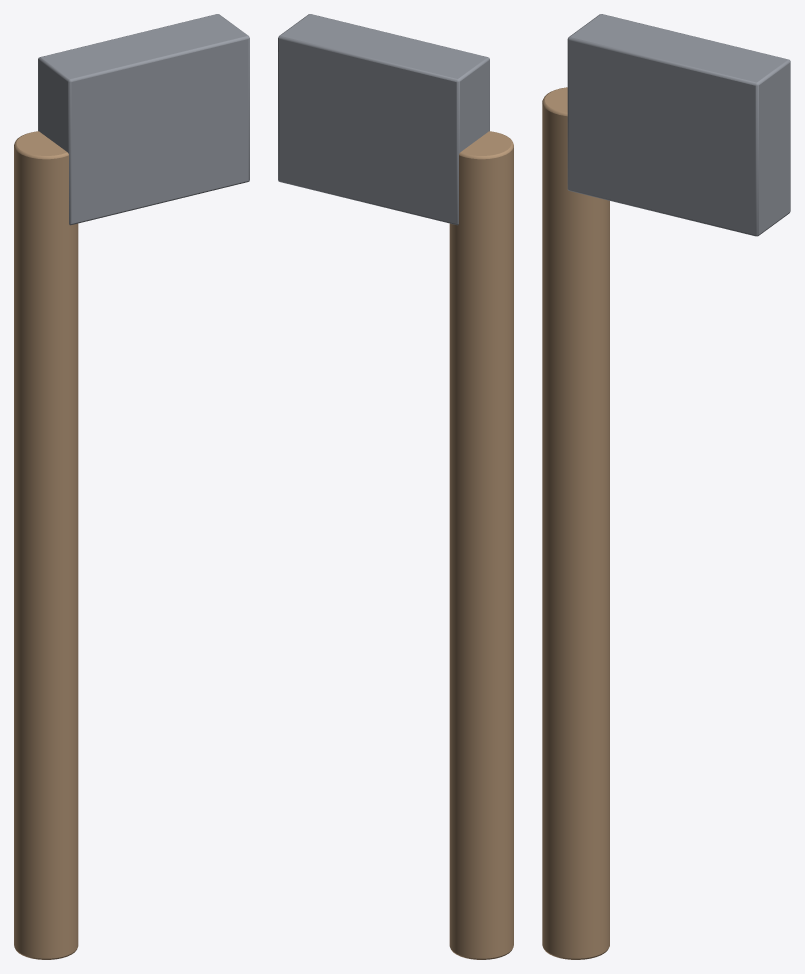
Rendered from SM_EQP_HATCHET_T2.fbx.
3 renders of one model, left to right at view 1: azimuth 30°, elevation 25°; view 2: azimuth 150°, elevation 25°; view 3: azimuth 330°, elevation 25°, orthographic. The views are drawn at different scales.
Parts seen in each view (by area): view 1: SM_EQP_HATCHET_T2; view 2: SM_EQP_HATCHET_T2; view 3: SM_EQP_HATCHET_T2.
Boxes of the visible parts, left/top/right/bottom form: SM_EQP_HATCHET_T2: left=14, top=14, right=249, bottom=959; SM_EQP_HATCHET_T2: left=278, top=14, right=513, bottom=959; SM_EQP_HATCHET_T2: left=542, top=14, right=790, bottom=959.
Size of what is drawn, in the model's own units: 0.155 by 0.6 by 0.04.
